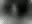person: (11, 4, 19, 19)
